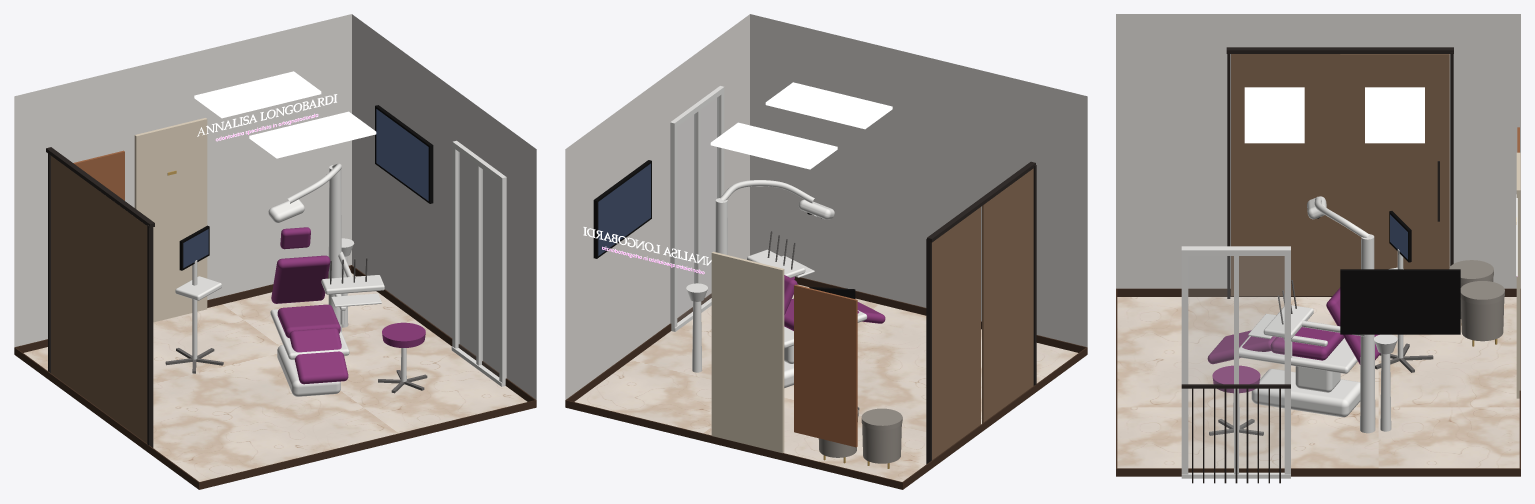
Rendered from treatment.glb.
3 views of the same model, side by side, from view 1: azimuth 30°, elevation 25°; view 2: azimuth 150°, elevation 25°; view 3: azimuth 270°, elevation 25° (orthographic). The views are drawn at different scales.
Parts seen in each view (by area): view 1: shell_wall, shell_marble, bronze_glass_doors_bronzeGlass, back_wall_cream, dental_chair_plumSeat, window_clearGlass, shell_skirting, ceiling_panels_lightPanel, window_white, dental_unit_white, bronze_glass_doors_darkMetal, tv_screen (+7 smaller); view 2: shell_wall, bronze_glass_doors_bronzeGlass, shell_marble, back_wall_cream, back_wall_copper, shell_skirting, ceiling_panels_lightPanel, window_clearGlass, window_white, dental_unit_white, bronze_glass_doors_darkMetal, tv_screen (+5 smaller); view 3: shell_wall, shell_marble, bronze_glass_doors_bronzeGlass, window_clearGlass, tv_black, ceiling_panels_lightPanel, window_white, dental_chair_white, dental_unit_white, shell_skirting, bronze_glass_doors_darkMetal, dental_chair_plumSeat (+6 smaller).
Boxes of the visible parts, x1,y1,x2,y2 form: shell_wall: [14, 14, 536, 399]; shell_marble: [23, 273, 527, 481]; bronze_glass_doors_bronzeGlass: [51, 156, 147, 443]; back_wall_cream: [134, 118, 207, 322]; dental_chair_plumSeat: [271, 227, 348, 384]; window_clearGlass: [458, 152, 498, 375]; shell_skirting: [14, 265, 536, 489]; ceiling_panels_lightPanel: [194, 71, 376, 158]; window_white: [451, 140, 506, 386]; dental_unit_white: [268, 163, 384, 332]; bronze_glass_doors_darkMetal: [46, 147, 154, 447]; tv_screen: [376, 109, 428, 200]; shell_wall: [565, 14, 1087, 399]; bronze_glass_doors_bronzeGlass: [932, 168, 1033, 459]; shell_marble: [574, 284, 1078, 481]; back_wall_cream: [711, 251, 784, 453]; back_wall_copper: [794, 284, 857, 447]; shell_skirting: [565, 276, 1087, 489]; ceiling_panels_lightPanel: [710, 82, 892, 169]; window_clearGlass: [677, 97, 718, 321]; window_white: [670, 86, 724, 331]; dental_unit_white: [686, 180, 834, 372]; bronze_glass_doors_darkMetal: [926, 161, 1036, 464]; tv_screen: [598, 163, 650, 255]; shell_wall: [1116, 14, 1520, 288]; shell_marble: [1117, 297, 1519, 468]; bronze_glass_doors_bronzeGlass: [1231, 54, 1449, 295]; window_clearGlass: [1188, 256, 1284, 468]; tv_black: [1340, 269, 1460, 334]; ceiling_panels_lightPanel: [1244, 87, 1424, 143]; window_white: [1181, 246, 1290, 478]; dental_chair_white: [1239, 335, 1360, 417]; dental_unit_white: [1248, 196, 1397, 433]; shell_skirting: [1116, 288, 1520, 476]; bronze_glass_doors_darkMetal: [1226, 47, 1453, 298]; dental_chair_plumSeat: [1207, 287, 1380, 364].
Bounding box in the file's own units: 4.24 × 2.85 × 3.7.
Materials: 20 (1 with a texture image).
